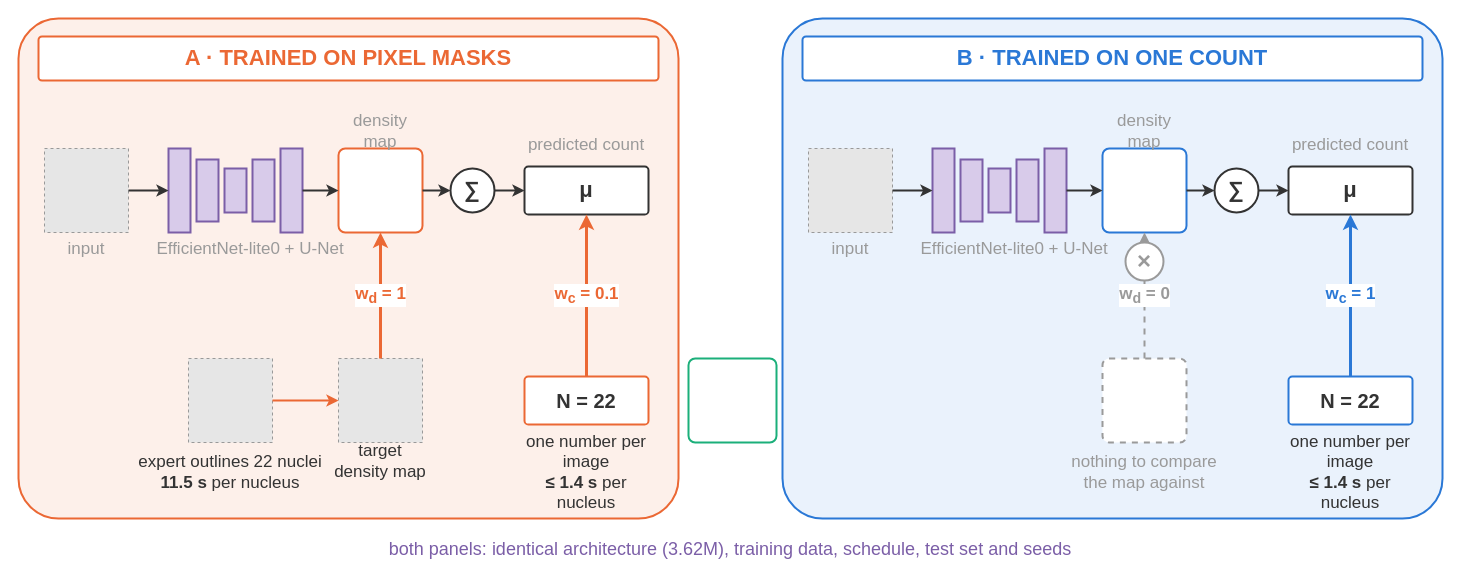
The diagram is 1460 pixels wide and 579 high, and some of its shapes have lost their labels. Grey dashed boxes stand in for pictures. The centre of each missing label's shape, as x and y in pixels:
no target: the point at 1144,400
≥ 8× cheaper to label: the point at 732,400
